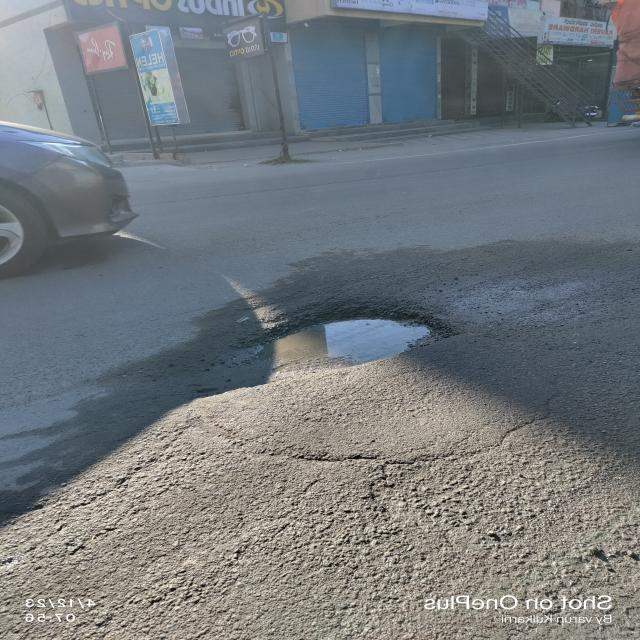Puddle pothole: (245, 300, 448, 382)
